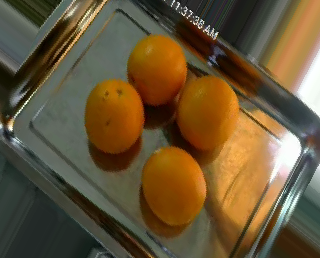Orange: (141, 145, 207, 226), (177, 75, 239, 150), (84, 78, 144, 153), (127, 34, 187, 105)
